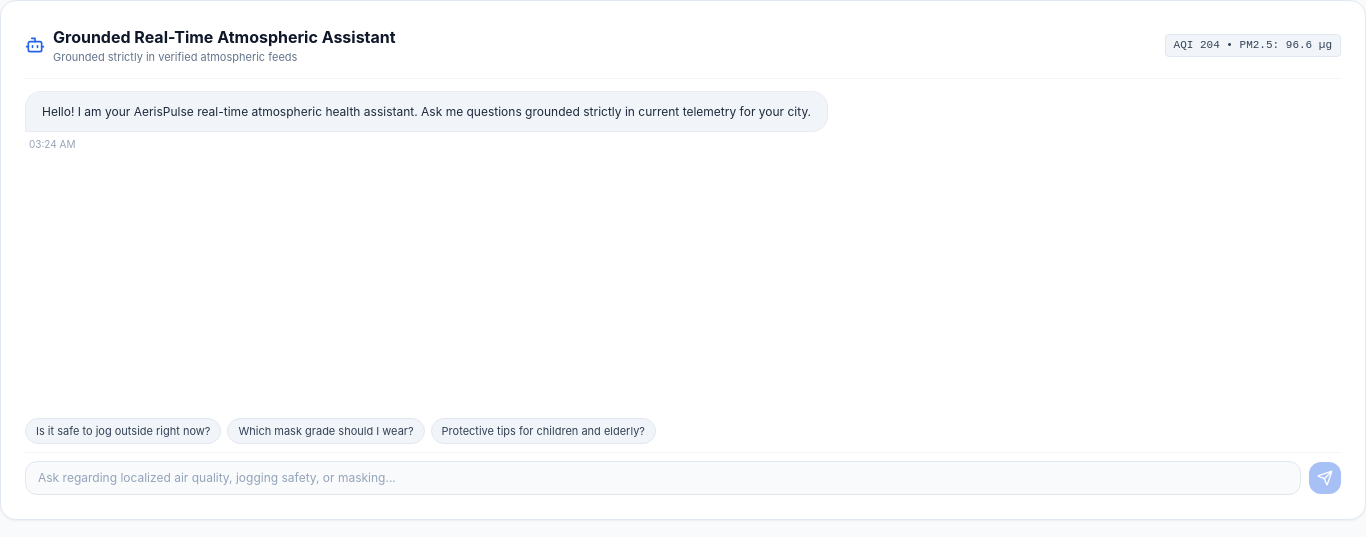
StreamingChat Component Unit Suite › allows typing custom message into input field and sending
The image size is (1366, 537).
Replace the text in the field named "Ask the atmospheric health assistant" with "Should I wear a mask?". click: (663, 478)
box: [25,461,1301,495]
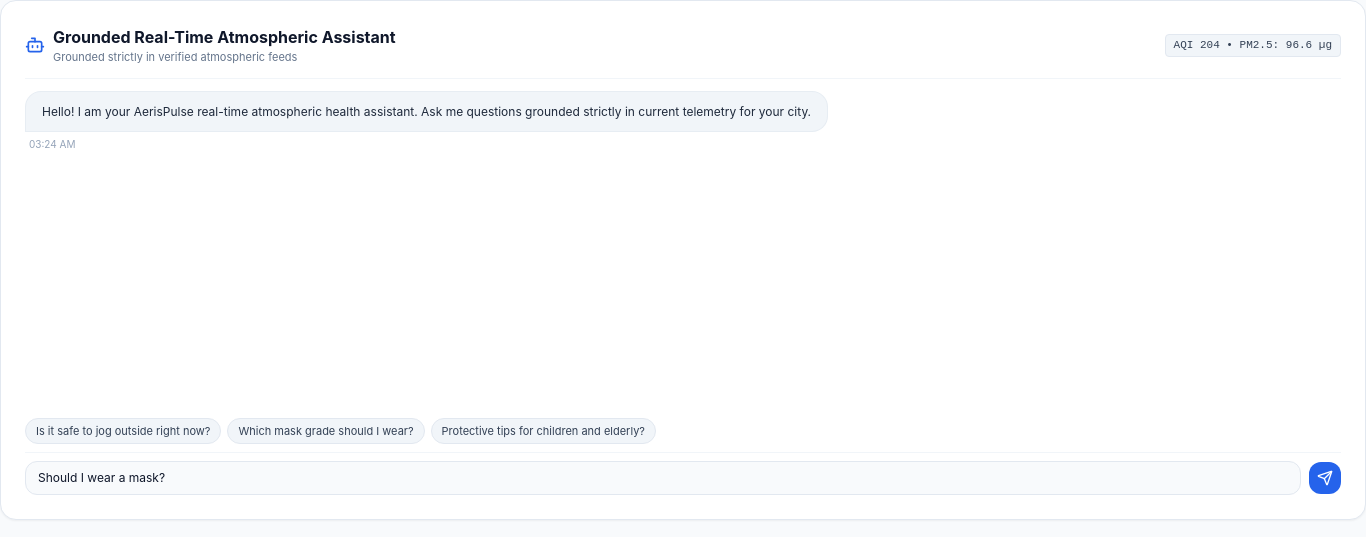
Click the button named "Send". click: click(1325, 478)
box: [1309,462,1341,494]
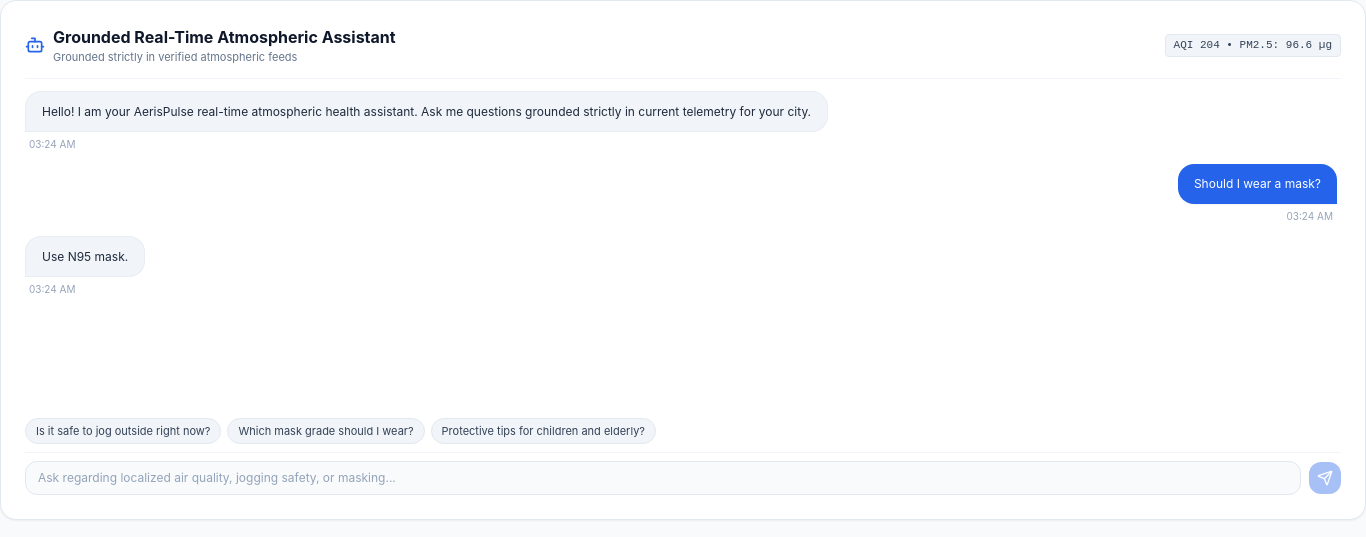
expect the text "Should I wear a mask?" is shown: met, box [1194,174,1321,194]
